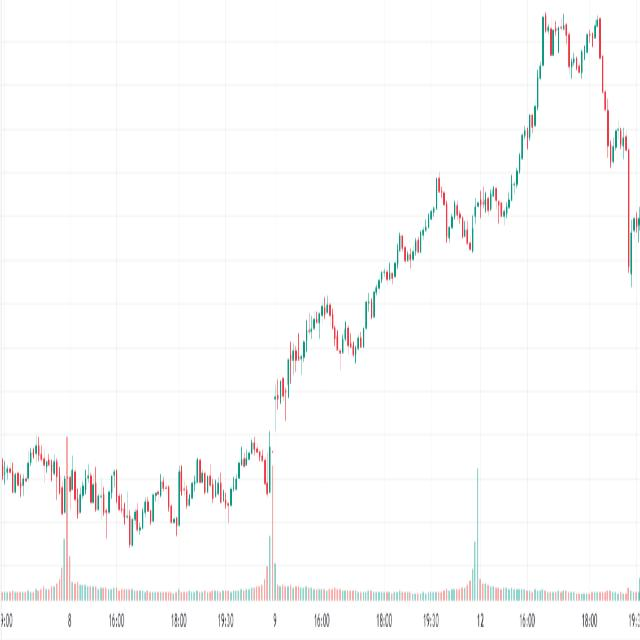Channel-up: (260, 271, 341, 436)
Descending-Triangle: (429, 154, 492, 255)
